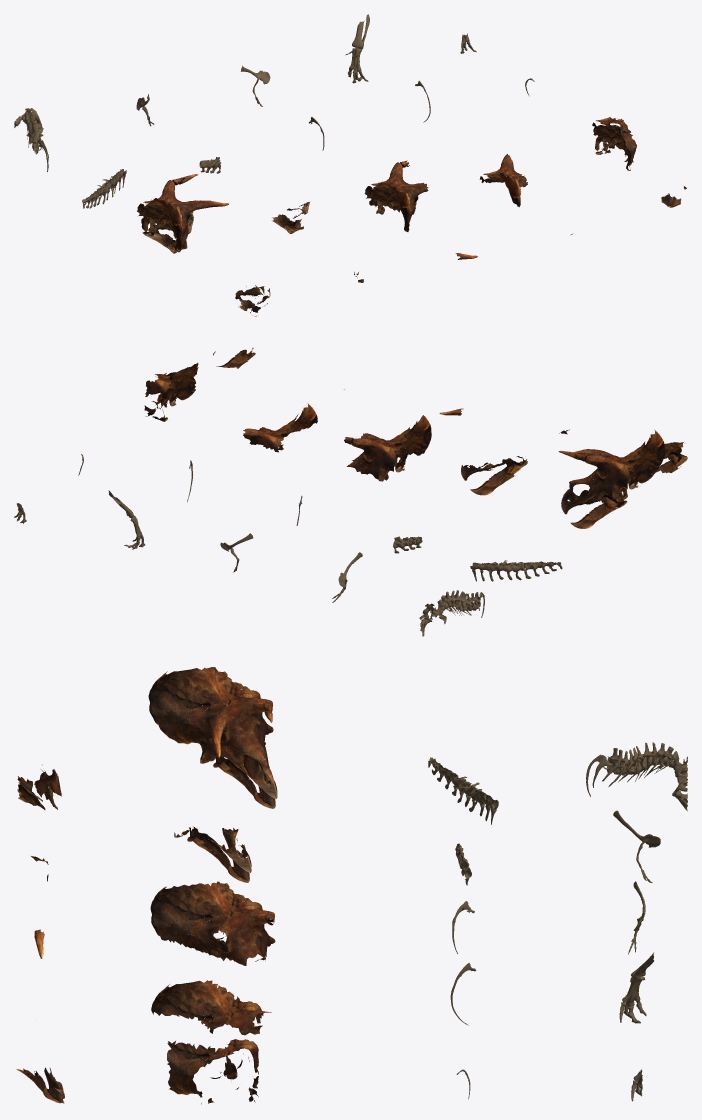
The model's file is RHC7_RealBoneSet.glb.
The picture shows the model from 3 angles, top to bottom: view 1: azimuth 30°, elevation 25°; view 2: azimuth 150°, elevation 25°; view 3: azimuth 270°, elevation 25°; orthographic projection. The views are drawn at different scales.
Visible parts, largest first — view 1: Triceratops_Skull, Triceratops_Frill, Triceratops_Occiput, Triceratops_FrillEdge, Trex_Neck, Trex_Hindlimb_L, Trex_Pelvis, Triceratops_Jugal_L, Triceratops_Mandible; view 2: Triceratops_Skull, Triceratops_Frill, Triceratops_Occiput, Triceratops_FrillEdge, Trex_Neck, Triceratops_Mandible, Trex_Pelvis, Triceratops_Jugal_L; view 3: Triceratops_Skull, Triceratops_Frill, Triceratops_FrillEdge, Triceratops_Occiput, Trex_Neck, Triceratops_Mandible, Trex_Pelvis, Triceratops_Jugal_L, Trex_Hindlimb_L, Triceratops_ToothRow.
Part boxes in pixels (x1,y1,x2,y2): Triceratops_Skull: [137, 174, 228, 253]; Triceratops_Frill: [364, 160, 428, 231]; Triceratops_Occiput: [592, 117, 636, 170]; Triceratops_FrillEdge: [479, 154, 527, 207]; Trex_Neck: [14, 108, 48, 171]; Trex_Hindlimb_L: [345, 14, 369, 83]; Trex_Pelvis: [82, 169, 126, 208]; Triceratops_Jugal_L: [235, 285, 270, 316]; Triceratops_Mandible: [271, 202, 309, 233]; Triceratops_Skull: [558, 429, 664, 528]; Triceratops_Frill: [344, 415, 431, 481]; Triceratops_Occiput: [144, 362, 198, 421]; Triceratops_FrillEdge: [243, 403, 317, 452]; Trex_Neck: [419, 590, 484, 636]; Triceratops_Mandible: [461, 456, 527, 495]; Trex_Pelvis: [470, 560, 562, 581]; Triceratops_Jugal_L: [656, 442, 687, 473]; Triceratops_Skull: [148, 667, 277, 808]; Triceratops_Frill: [150, 881, 275, 965]; Triceratops_FrillEdge: [151, 980, 271, 1035]; Triceratops_Occiput: [167, 1039, 258, 1104]; Trex_Neck: [586, 742, 687, 811]; Triceratops_Mandible: [174, 826, 251, 882]; Trex_Pelvis: [428, 757, 498, 824]; Triceratops_Jugal_L: [17, 764, 61, 809]; Trex_Hindlimb_L: [619, 952, 653, 1023]; Triceratops_ToothRow: [16, 1067, 64, 1103].
Size of the model in its own units: 2.04 by 0.3244 by 1.75.
2 materials, 2 textured.
